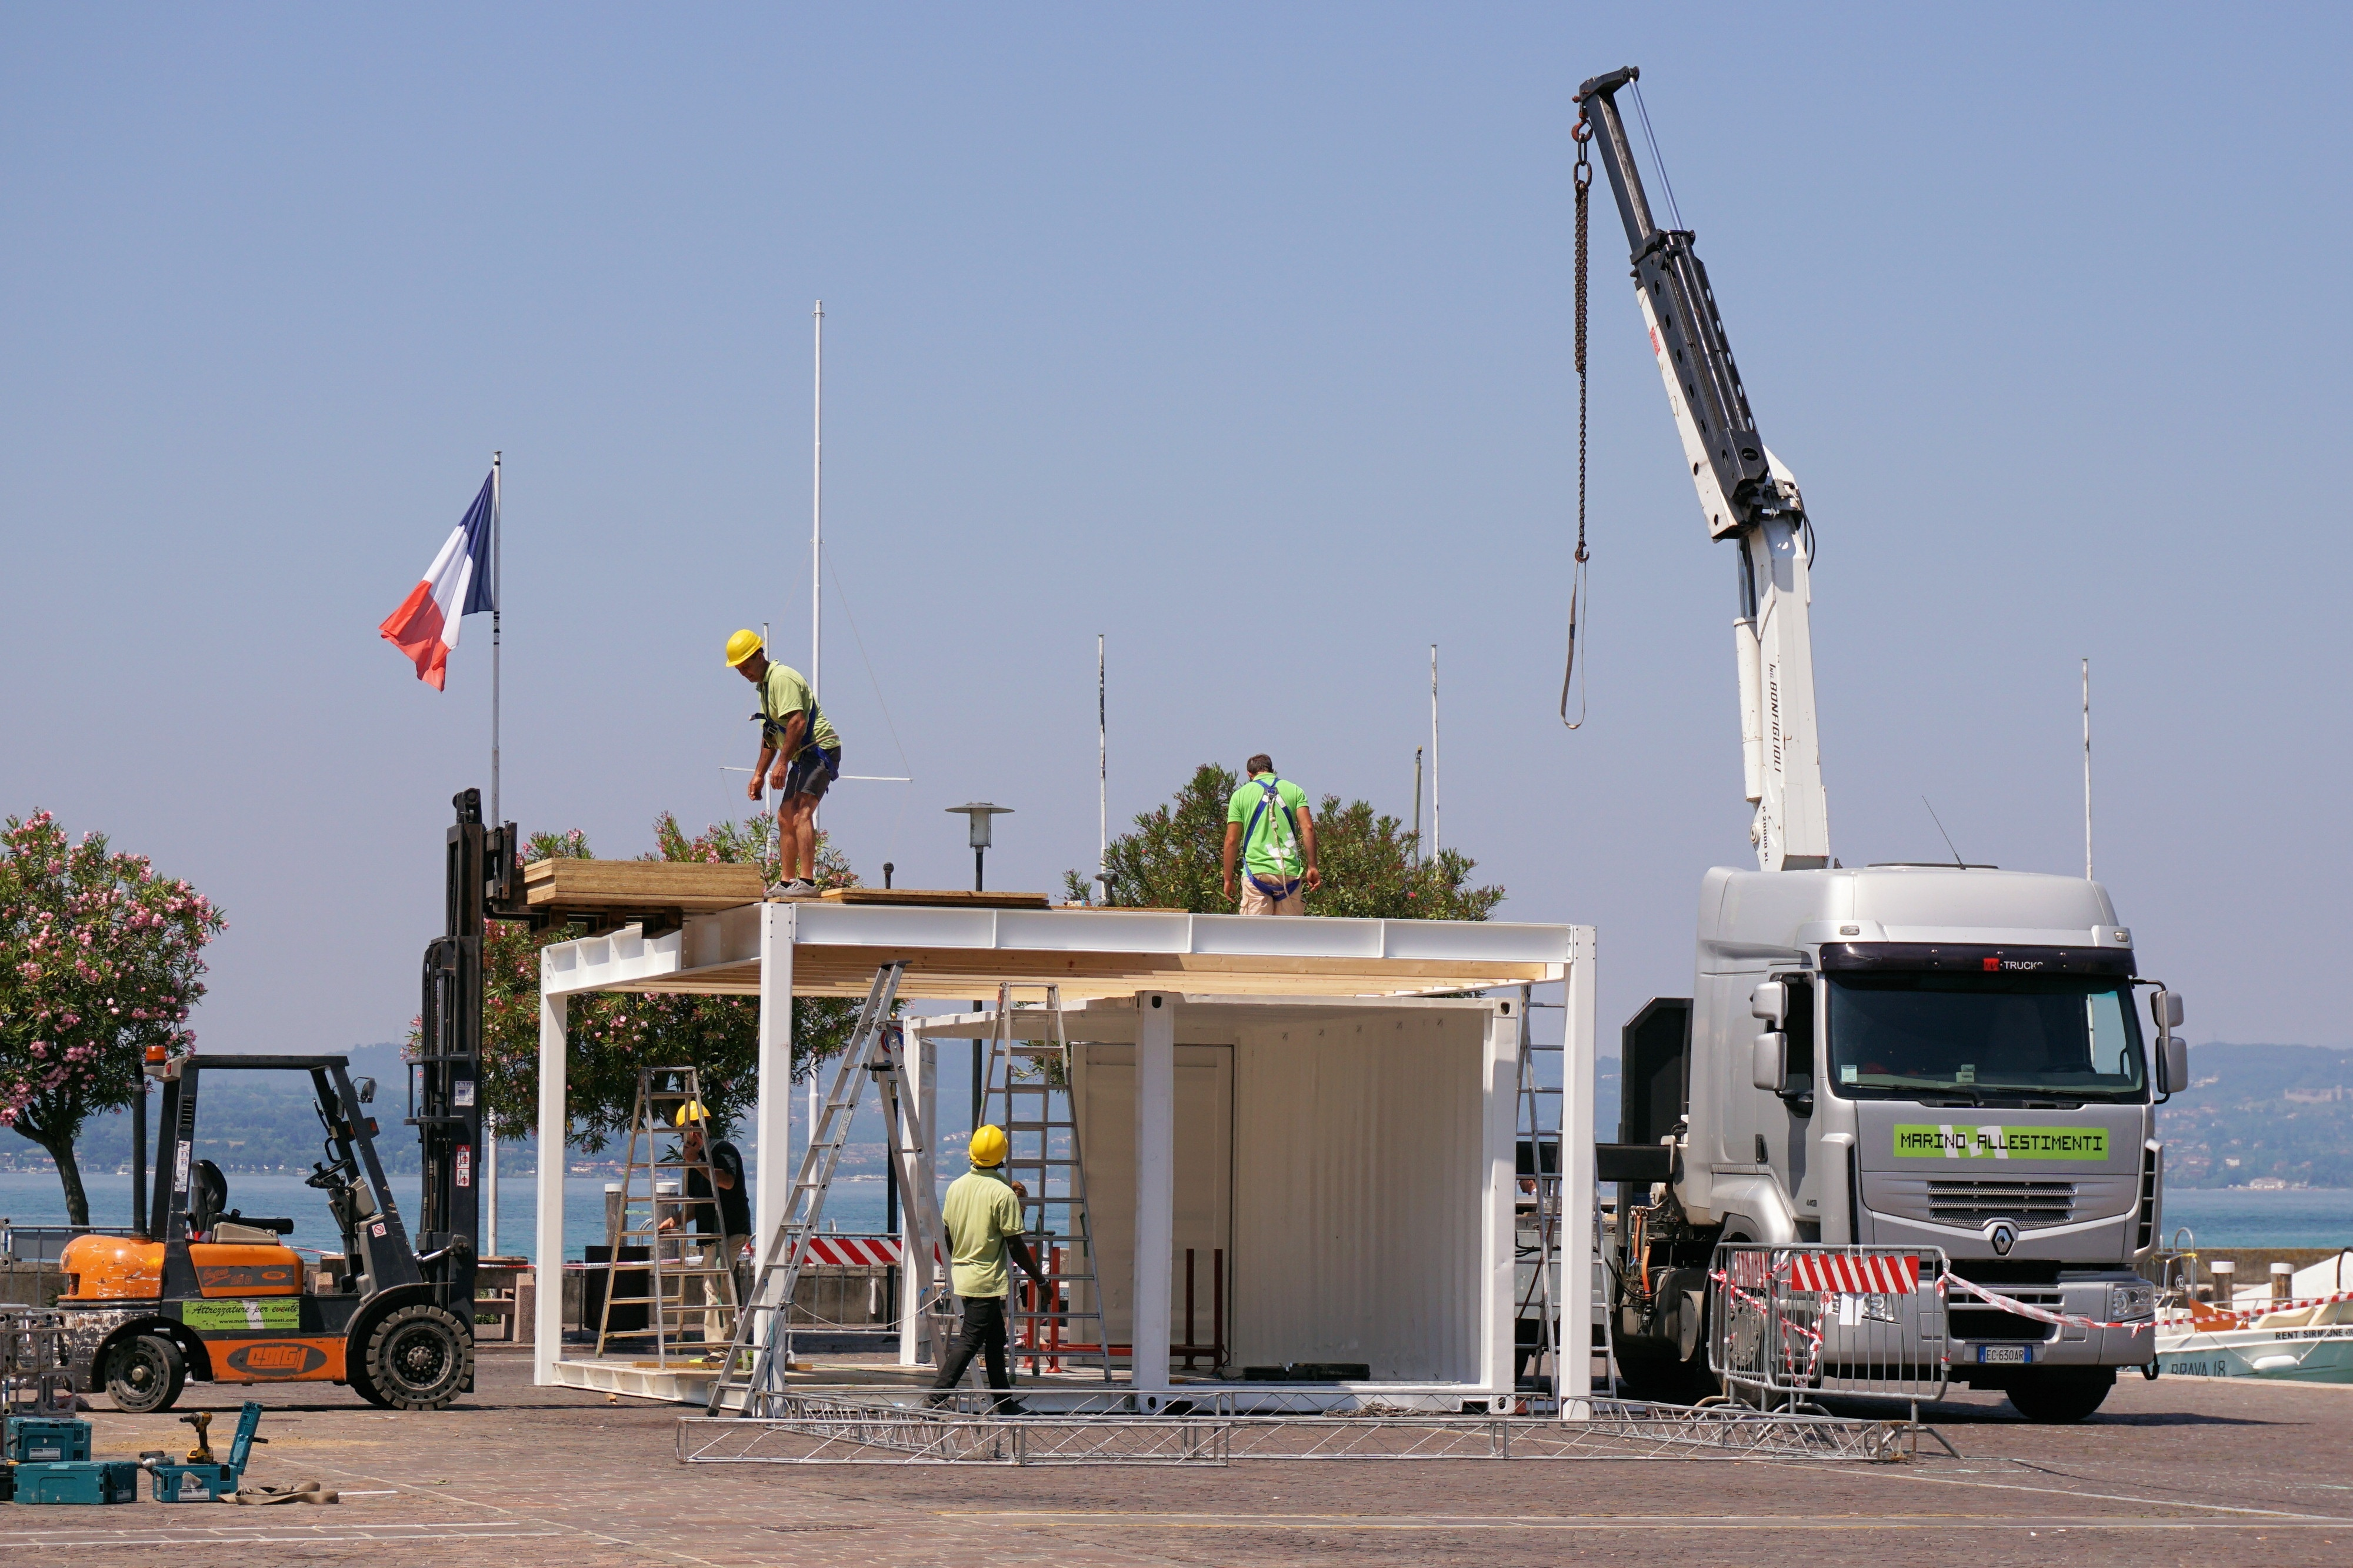none: (1246, 747, 1274, 782)
yellow: (723, 626, 766, 682), (966, 1125, 1009, 1174), (675, 1101, 710, 1144)
